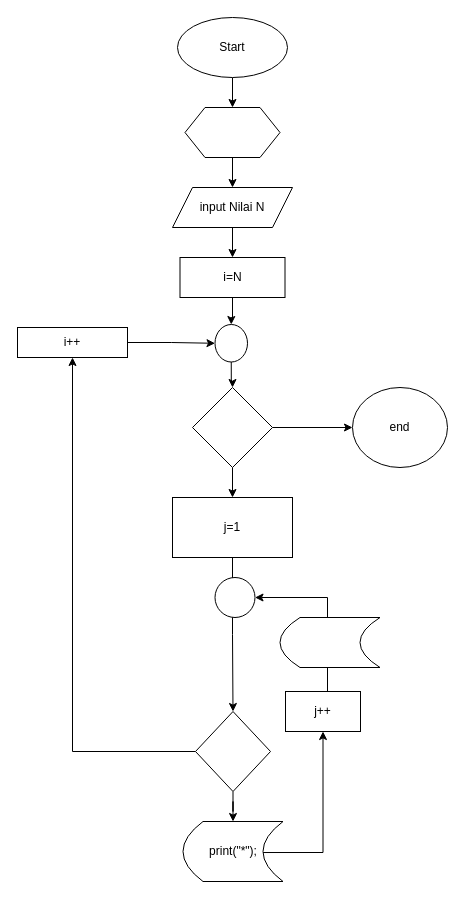
This 465x899 diagram has some shape labels left out. The shapes that lost their labels are listed below. From the top down, each one's box as (x1, y1, x2, y2) in pixels, then its label:
(184, 106, 280, 158): int N
(192, 386, 272, 468): i>=1
(279, 616, 380, 668): println();
(194, 710, 270, 792): j<=i
